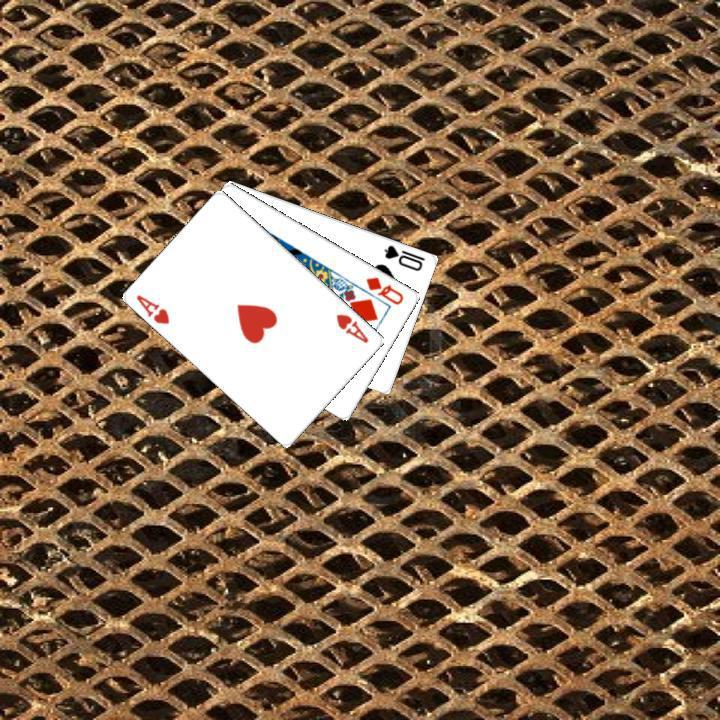10: (380, 240, 427, 273)
A: (132, 290, 172, 326), (332, 309, 371, 345)
Q: (362, 272, 406, 307)
